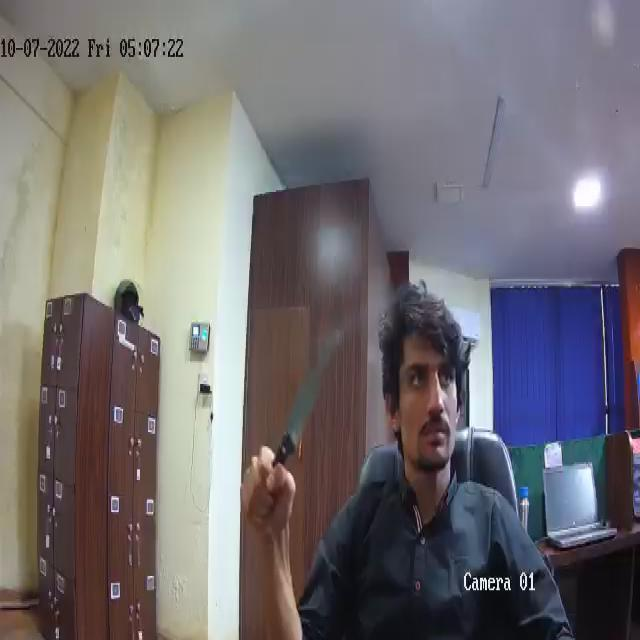Knife: (264, 329, 341, 498)
